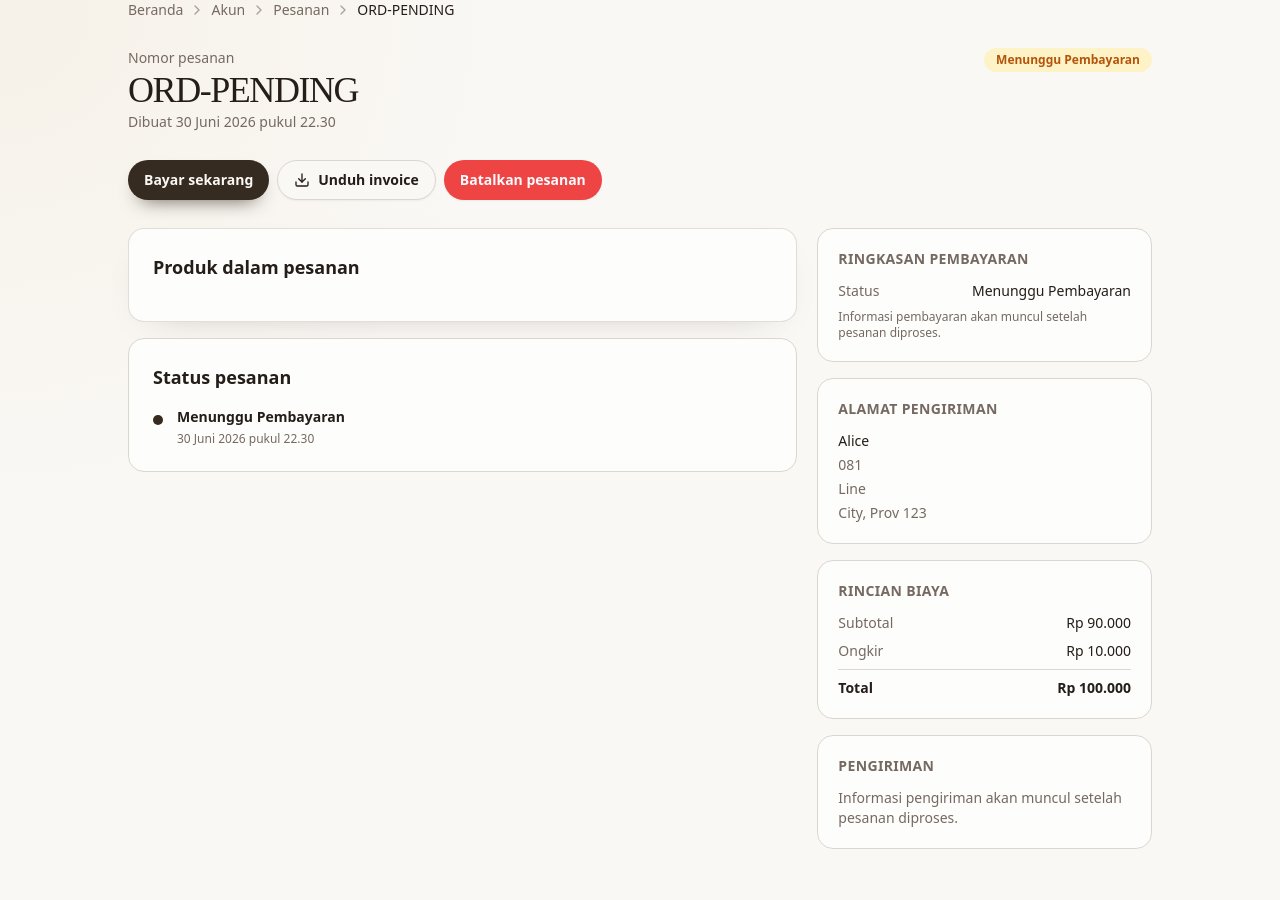
Test case: OrderDetailPage - Order Cancellation Flow › opens CancelOrderModal when clicking Batalkan pesanan button
Click the button "Batalkan pesanan" at point(523, 180), box [444, 160, 602, 200]
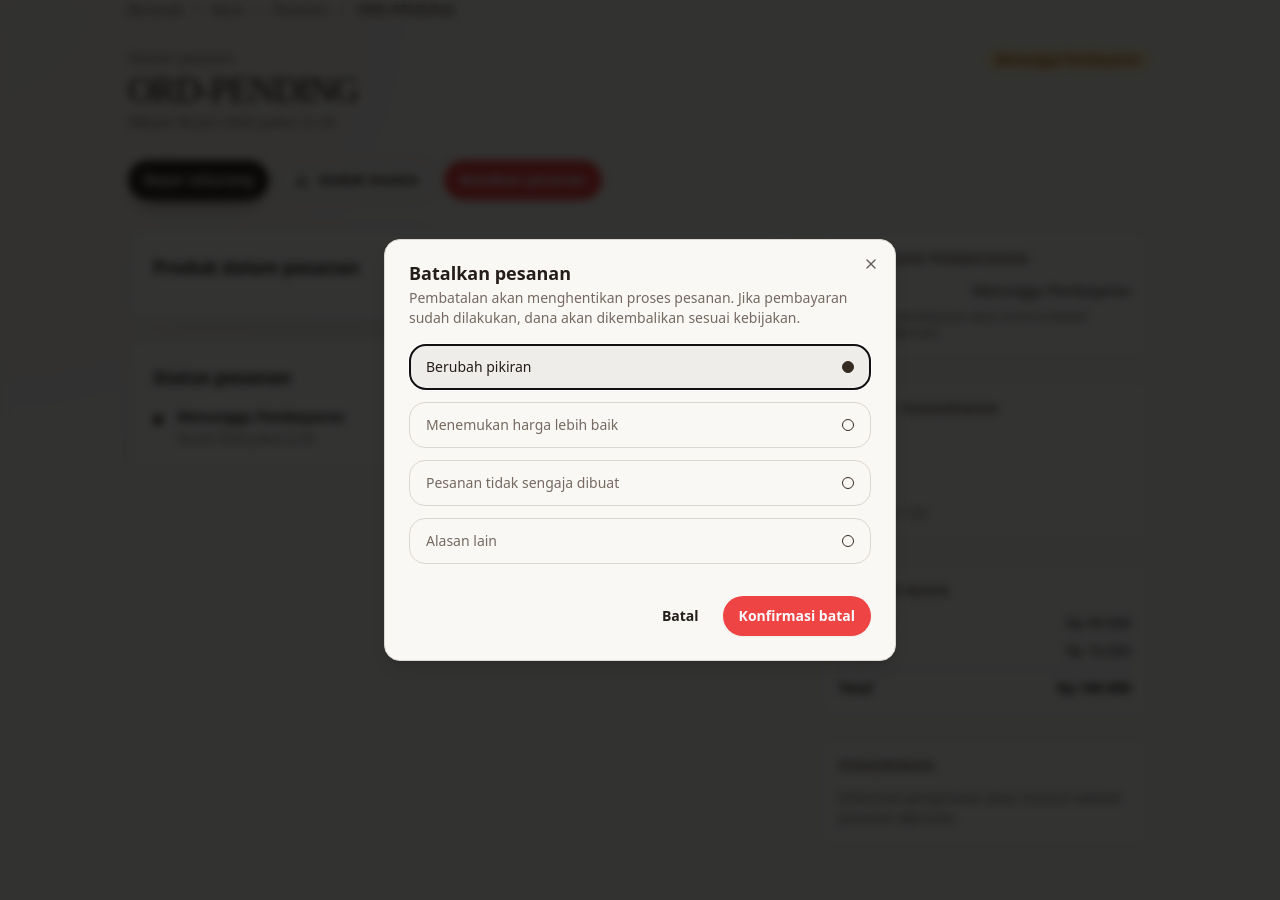
Now the heading "Batalkan pesanan" is shown, box [409, 261, 571, 285]
Now the text "Berubah pikiran" is shown, box [426, 357, 532, 377]
